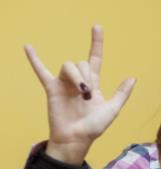back: (24, 23, 135, 144)
